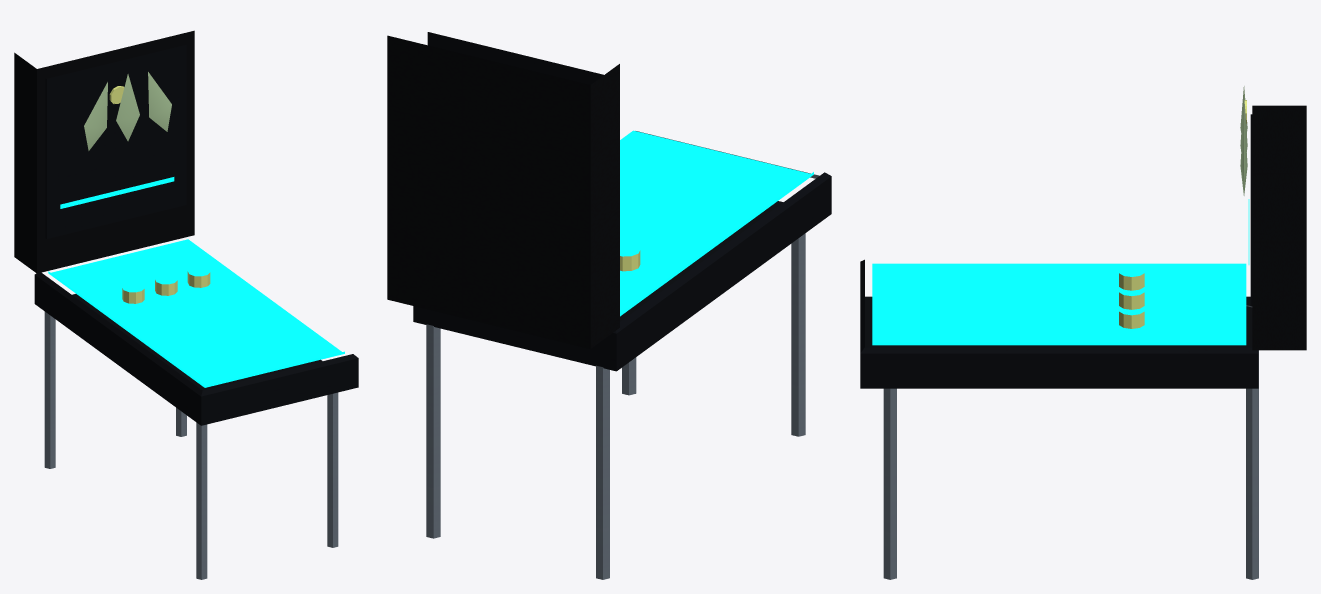
File: tt_arc_pinball.glb
The picture shows the model from 3 angles, left to right: view 1: azimuth 30°, elevation 25°; view 2: azimuth 150°, elevation 25°; view 3: azimuth 270°, elevation 25°; orthographic projection. The views are drawn at different scales.
Parts seen in each view (by area): view 1: PB_Playfield, Screen_Plate, PB_Backbox, PB_Body, PB_Legs, Scr_Leaf, PB_Bumpers, Scr_Art; view 2: PB_Backbox, PB_Playfield, PB_Body, PB_Legs, Screen_Plate; view 3: PB_Playfield, PB_Body, PB_Backbox, PB_Legs, PB_Bumpers, Screen_Plate, Scr_Leaf.
Part boxes in pixels (x1,y1,x2,y2): PB_Playfield: (48, 239, 344, 387); Screen_Plate: (45, 45, 186, 238); PB_Backbox: (14, 30, 194, 273); PB_Body: (34, 272, 358, 425); PB_Legs: (44, 311, 338, 579); Scr_Leaf: (84, 72, 171, 150); PB_Bumpers: (122, 271, 210, 303); Scr_Art: (60, 177, 174, 208); PB_Backbox: (387, 35, 619, 348); PB_Playfield: (620, 130, 813, 316); PB_Body: (413, 172, 831, 371); PB_Legs: (426, 233, 805, 579); Screen_Plate: (427, 32, 603, 84); PB_Playfield: (872, 263, 1246, 345); PB_Body: (860, 259, 1258, 388); PB_Backbox: (1252, 105, 1306, 350); PB_Legs: (883, 305, 1258, 579); PB_Bumpers: (1119, 273, 1144, 328); Screen_Plate: (1250, 114, 1252, 305); Scr_Leaf: (1240, 86, 1247, 195).
Size of what is drawn, in the model's own units: 0.72 by 1.75 by 1.48.
6 materials, 3 textured.
